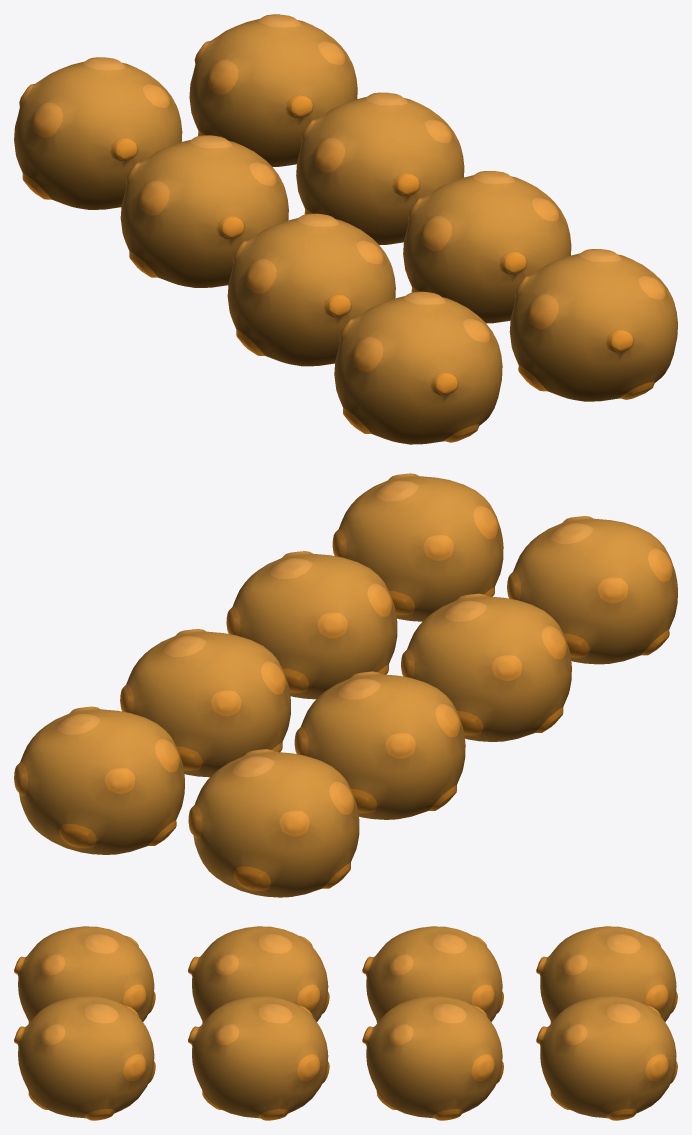
The model's file is Full_Cheese_Bread.fbx.
3 renders of one model, top to bottom at view 1: azimuth 30°, elevation 25°; view 2: azimuth 150°, elevation 25°; view 3: azimuth 270°, elevation 25°, orthographic. The views are drawn at different scales.
Visible parts, largest first — view 1: Full_Cheese_Bread; view 2: Full_Cheese_Bread; view 3: Full_Cheese_Bread.
Boxes of the visible parts, x1=… form: Full_Cheese_Bread: x1=14, y1=14, x2=677, y2=444; Full_Cheese_Bread: x1=14, y1=473, x2=677, y2=897; Full_Cheese_Bread: x1=14, y1=926, x2=677, y2=1120.
Size of the model in its own units: 22.36 by 8.67 by 49.31.
